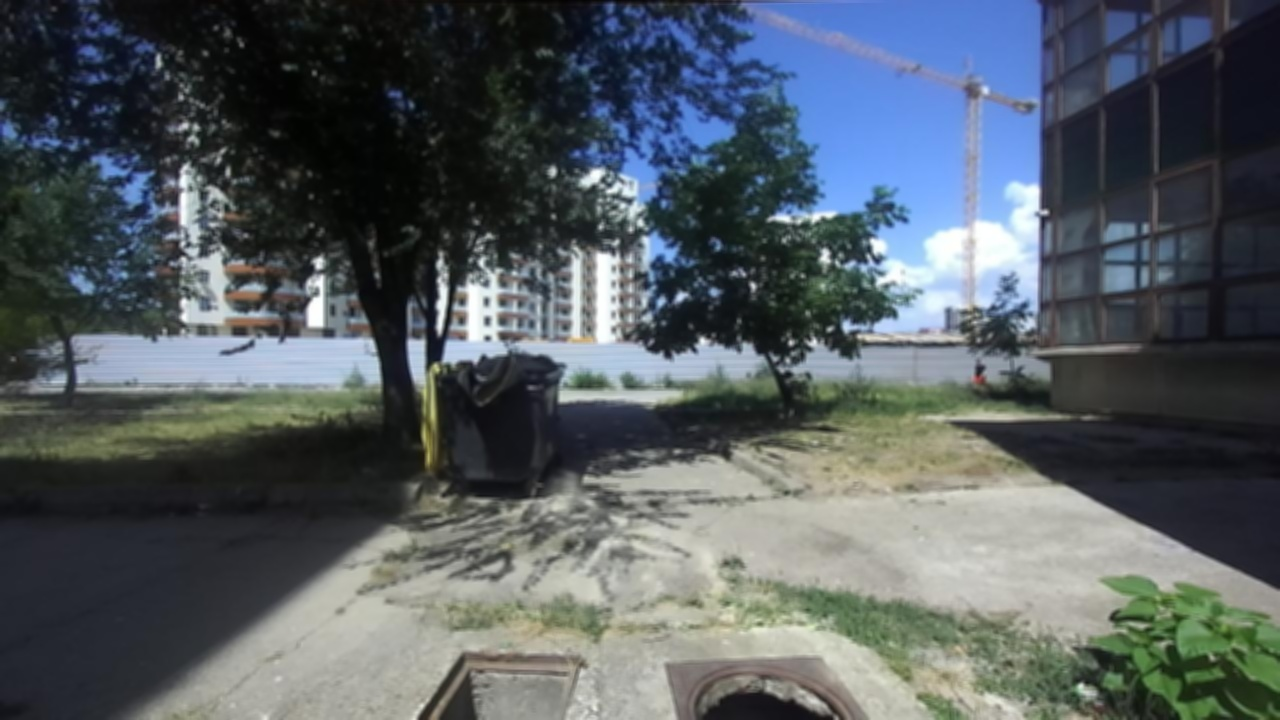drain: (417, 650, 585, 718), (680, 665, 860, 717)
